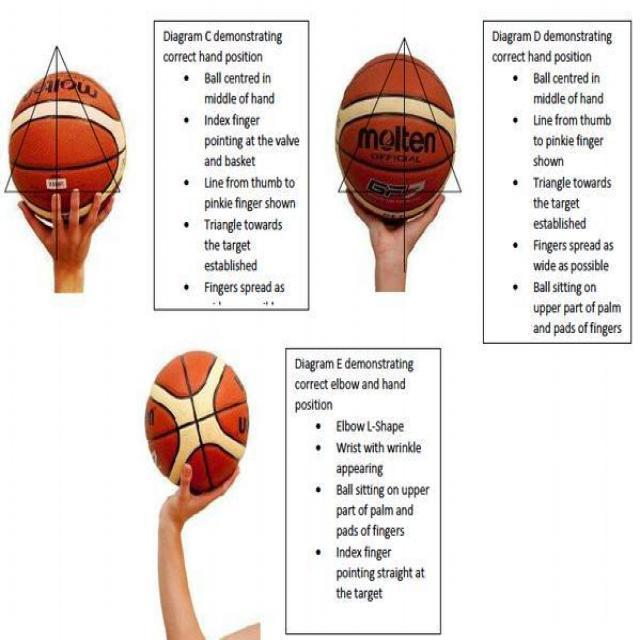Basketball: (337, 52, 457, 219), (10, 73, 126, 224), (146, 350, 249, 494)
